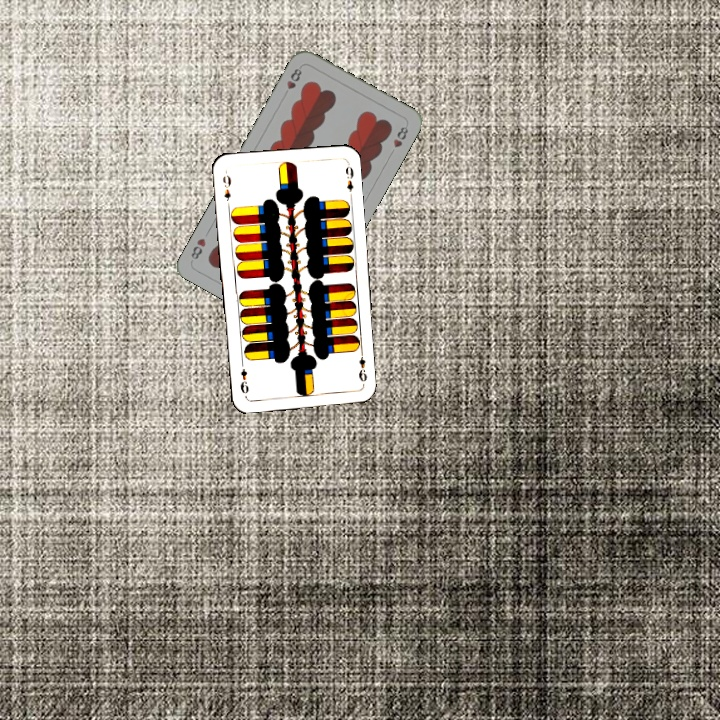E9: (355, 347, 369, 388), (219, 171, 234, 203)
H8: (279, 63, 304, 100)
